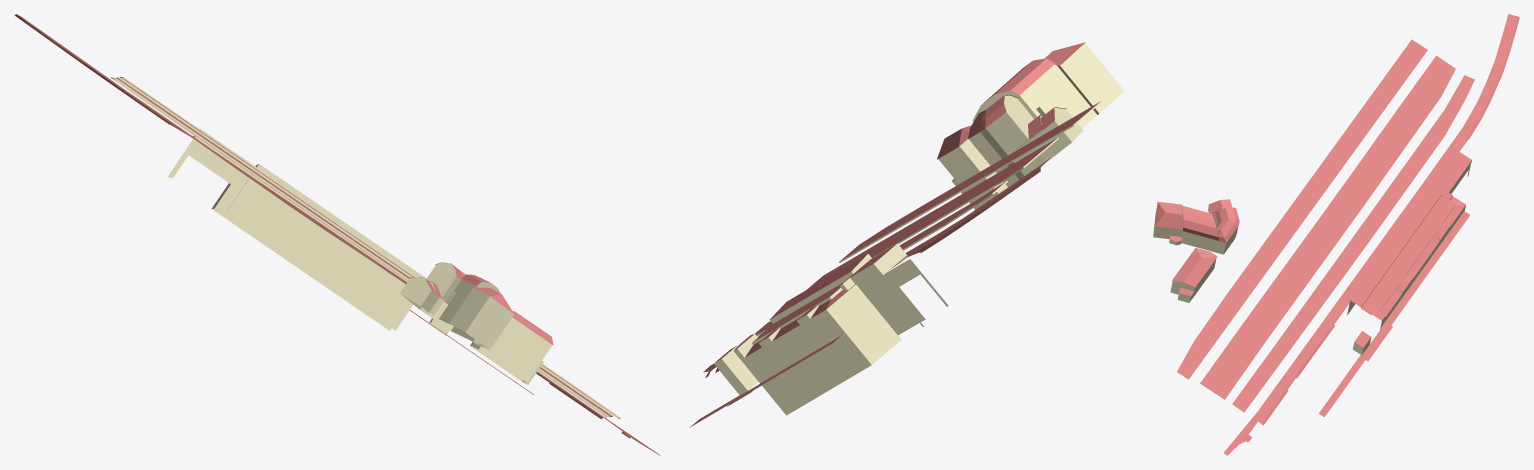
File: tile_091.glb
The picture shows the model from 3 angles, left to right: view 1: azimuth 30°, elevation 25°; view 2: azimuth 150°, elevation 25°; view 3: azimuth 270°, elevation 25°; orthographic projection. The views are drawn at different scales.
Visible parts, largest first — view 1: Batched_Building_ID_FDEDE685-20DE-4EAC-9114-E8BA38181326, Batched_Building_ID_4A02822D-F259-47DB-9FA9-AD01592C8AA2; view 2: Batched_Building_ID_FDEDE685-20DE-4EAC-9114-E8BA38181326, Batched_Building_ID_4A02822D-F259-47DB-9FA9-AD01592C8AA2; view 3: Batched_Building_ID_4A02822D-F259-47DB-9FA9-AD01592C8AA2, Batched_Building_ID_FDEDE685-20DE-4EAC-9114-E8BA38181326.
Part boxes in pixels (x1,y1,x2,y2): Batched_Building_ID_FDEDE685-20DE-4EAC-9114-E8BA38181326: [14, 14, 659, 455]; Batched_Building_ID_4A02822D-F259-47DB-9FA9-AD01592C8AA2: [14, 14, 660, 455]; Batched_Building_ID_FDEDE685-20DE-4EAC-9114-E8BA38181326: [690, 43, 1124, 427]; Batched_Building_ID_4A02822D-F259-47DB-9FA9-AD01592C8AA2: [690, 42, 1100, 426]; Batched_Building_ID_4A02822D-F259-47DB-9FA9-AD01592C8AA2: [1155, 14, 1519, 455]; Batched_Building_ID_FDEDE685-20DE-4EAC-9114-E8BA38181326: [1153, 51, 1471, 454].
Bounding box in the file's own units: 237 × 206 × 238.
